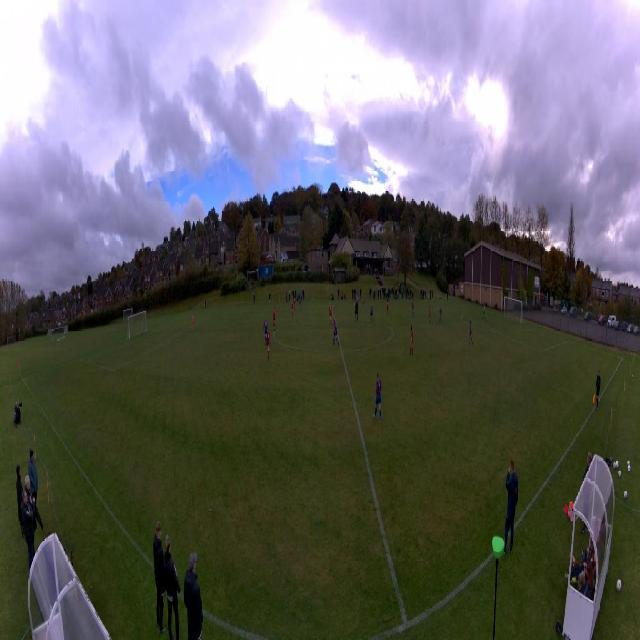ball: (354, 303, 355, 307)
player: (373, 371, 383, 423), (333, 318, 340, 349), (266, 327, 271, 359), (263, 317, 268, 345), (409, 327, 413, 356), (328, 303, 333, 325), (272, 306, 276, 331), (468, 320, 472, 345), (354, 300, 358, 324), (370, 304, 374, 323), (439, 305, 443, 324), (355, 296, 359, 311), (192, 313, 195, 331), (411, 298, 414, 316), (291, 299, 294, 317), (361, 293, 365, 305), (299, 296, 302, 312), (429, 305, 431, 324), (483, 305, 485, 322), (386, 299, 388, 315), (293, 297, 295, 312)
